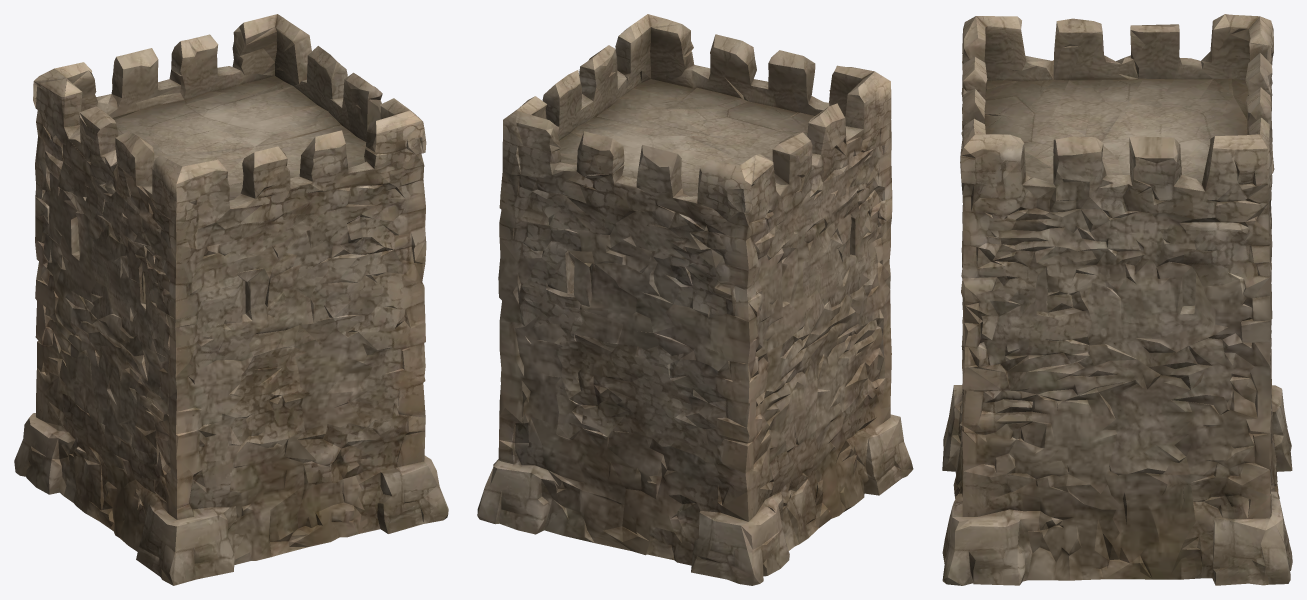
Rendered from tower.glb.
The picture shows the model from 3 angles, left to right: view 1: azimuth 30°, elevation 25°; view 2: azimuth 150°, elevation 25°; view 3: azimuth 270°, elevation 25°; orthographic projection. The views are drawn at different scales.
Parts seen in each view (by area): view 1: corner_tower; view 2: corner_tower; view 3: corner_tower.
Boxes of the visible parts, x1,y1,x2,y2 form: corner_tower: (14,14,448,585); corner_tower: (477,14,913,585); corner_tower: (942,14,1292,585).
Size of the model in its own units: 6.01 by 8.28 by 6.
1 material, 1 textured.
